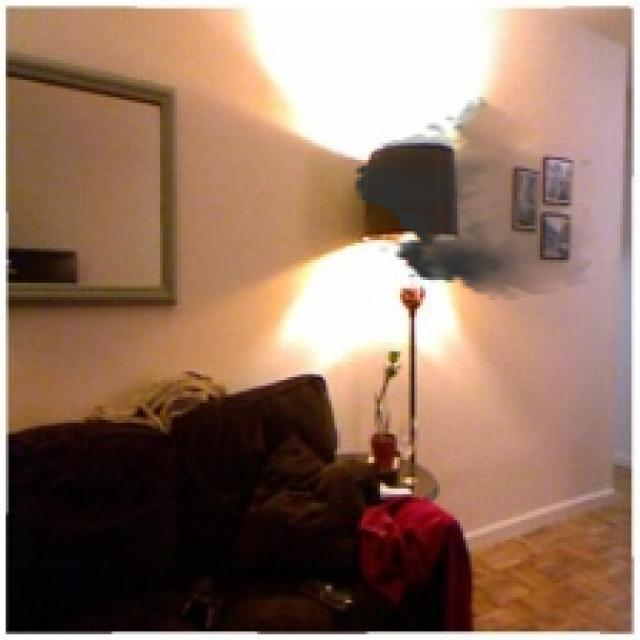Smoke: (343, 94, 606, 300)
